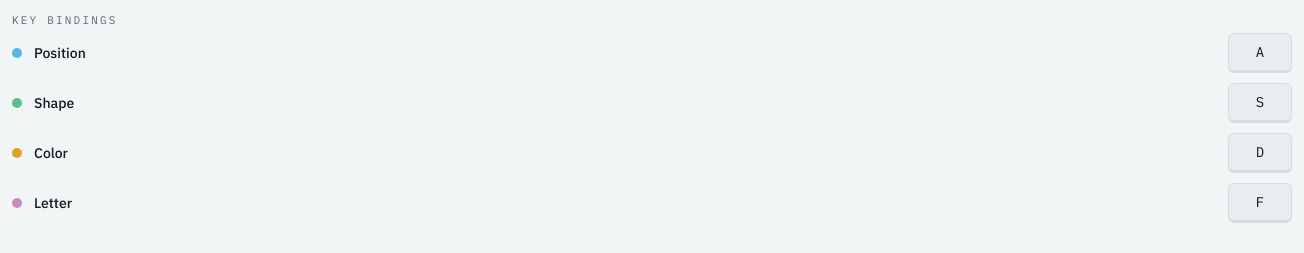
KeymapEditor › cancels listening when Escape is pressed
This screenshot has width=1304, height=253.
Click the button named "rebind color".
click(1260, 152)  # box [1228,132,1292,172]
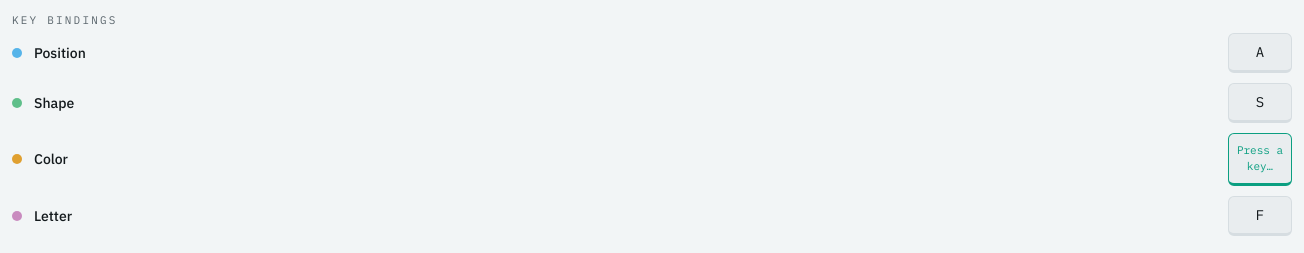
Press Escape
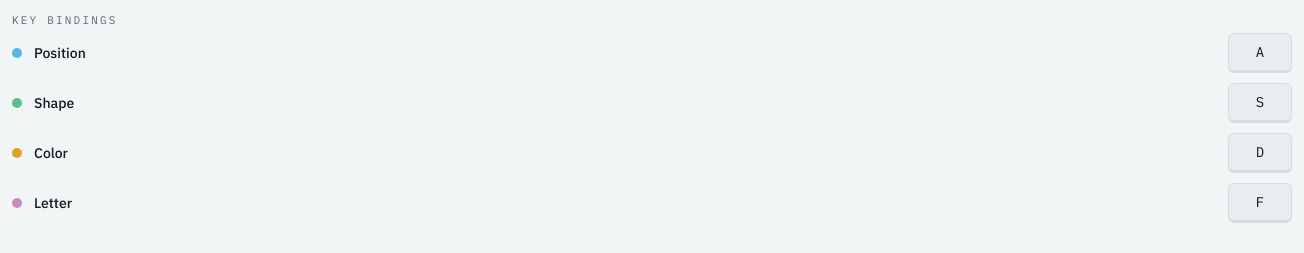
Check: the button "Press a key" is gone
